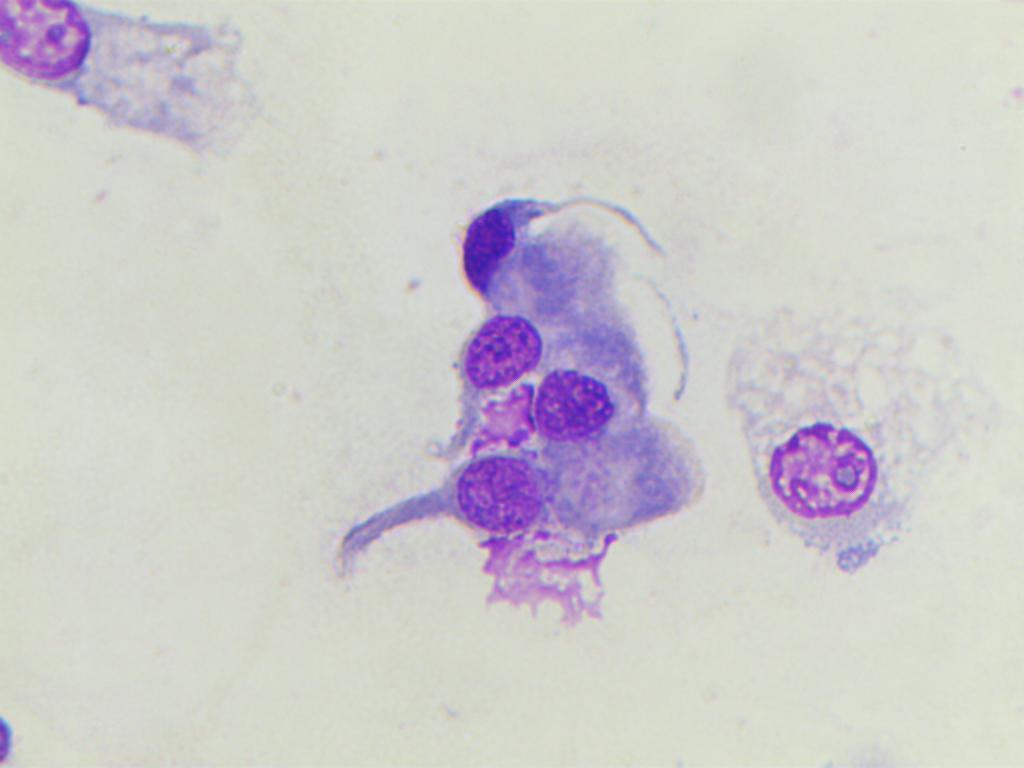ciliated: (0, 0, 246, 143), (455, 436, 707, 558)
epithelial: (724, 315, 945, 573), (445, 312, 547, 388), (531, 355, 619, 441)
goblet_cell: (455, 198, 656, 312)
